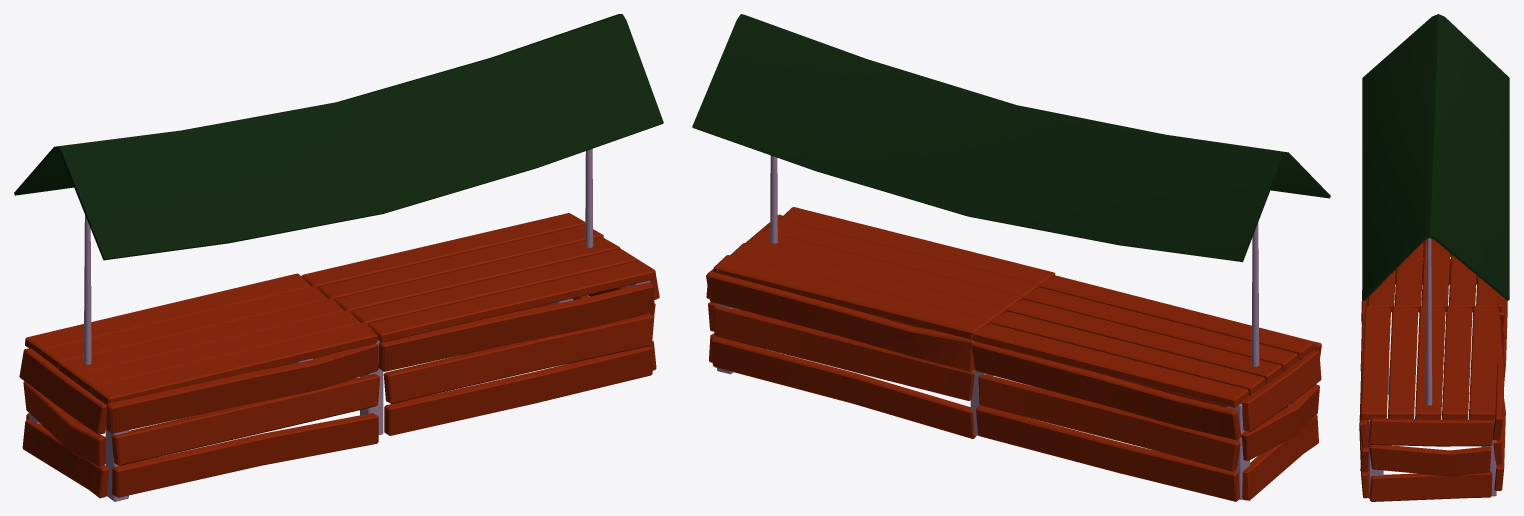
Rendered from Cuissine01_02.fbx.
3 views of the same model, side by side, from view 1: azimuth 30°, elevation 25°; view 2: azimuth 150°, elevation 25°; view 3: azimuth 270°, elevation 25° (orthographic). The views are drawn at different scales.
Parts seen in each view (by area): view 1: Cuissine01_02; view 2: Cuissine01_02; view 3: Cuissine01_02.
Part boxes in pixels (x1,y1,x2,y2): Cuissine01_02: (14, 14, 663, 501); Cuissine01_02: (692, 14, 1330, 501); Cuissine01_02: (1359, 14, 1509, 501).
Bounding box in the file's own units: 538 × 305 × 154.
